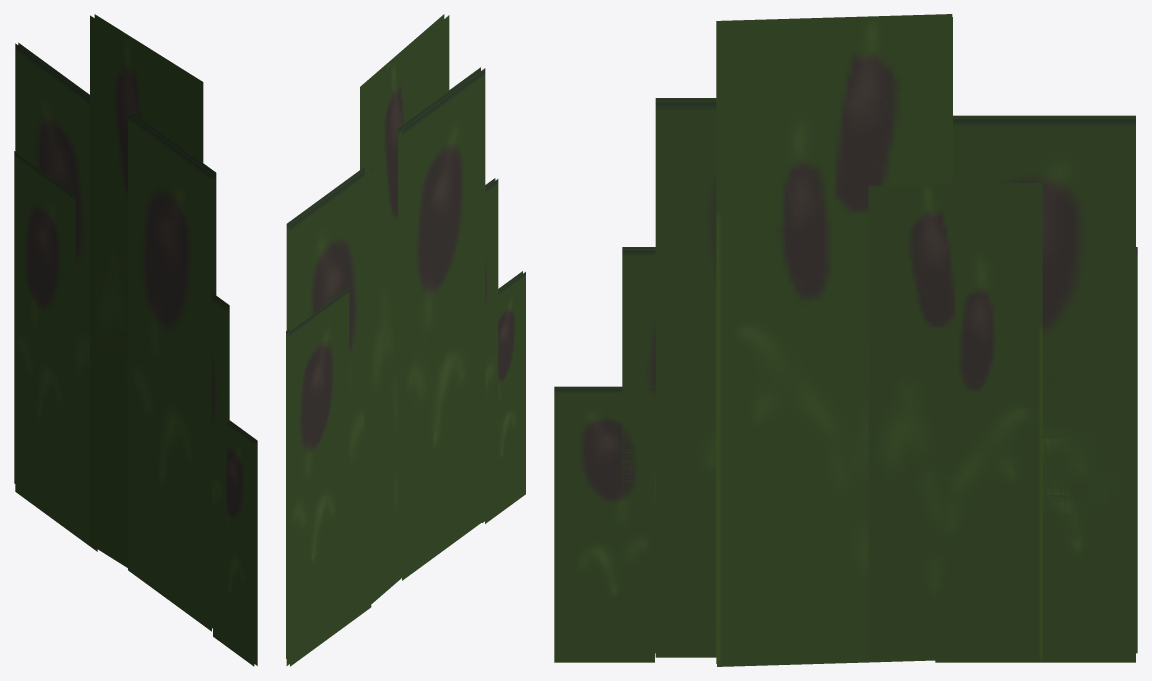
The model's file is Reeds_2.FBX.
3 renders of one model, left to right at view 1: azimuth 30°, elevation 25°; view 2: azimuth 150°, elevation 25°; view 3: azimuth 270°, elevation 25°, orthographic. The views are drawn at different scales.
Parts seen in each view (by area): view 1: Reeds_2; view 2: Reeds_2; view 3: Reeds_2.
Boxes of the visible parts, <box> form: Reeds_2: <box>14,14,257,666</box>; Reeds_2: <box>286,14,525,666</box>; Reeds_2: <box>554,14,1137,666</box>.
Size of the model in its own units: 3.99 by 122 by 99.72.
